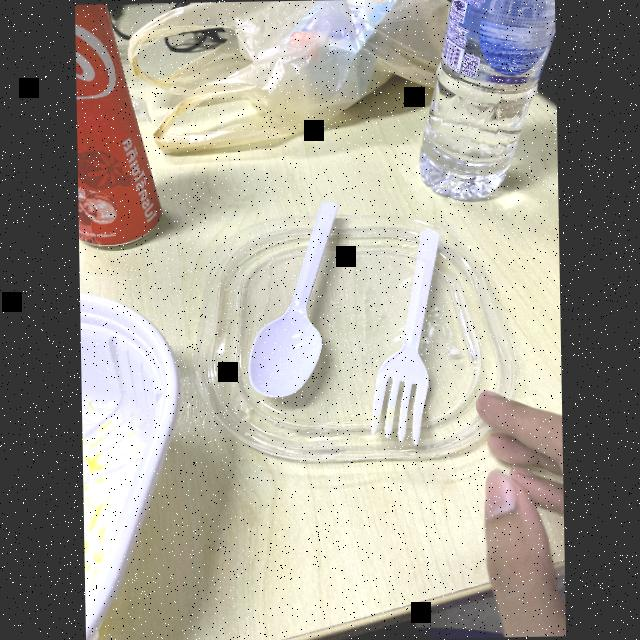plastic_spoon: (353, 225, 464, 454), (239, 188, 354, 394)
